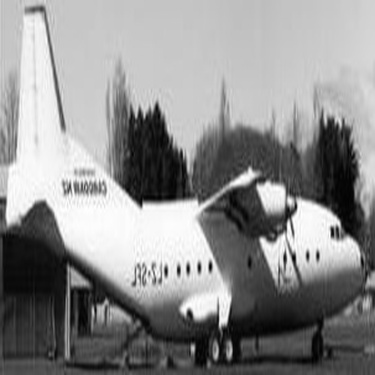airplane: (5, 3, 372, 371)
